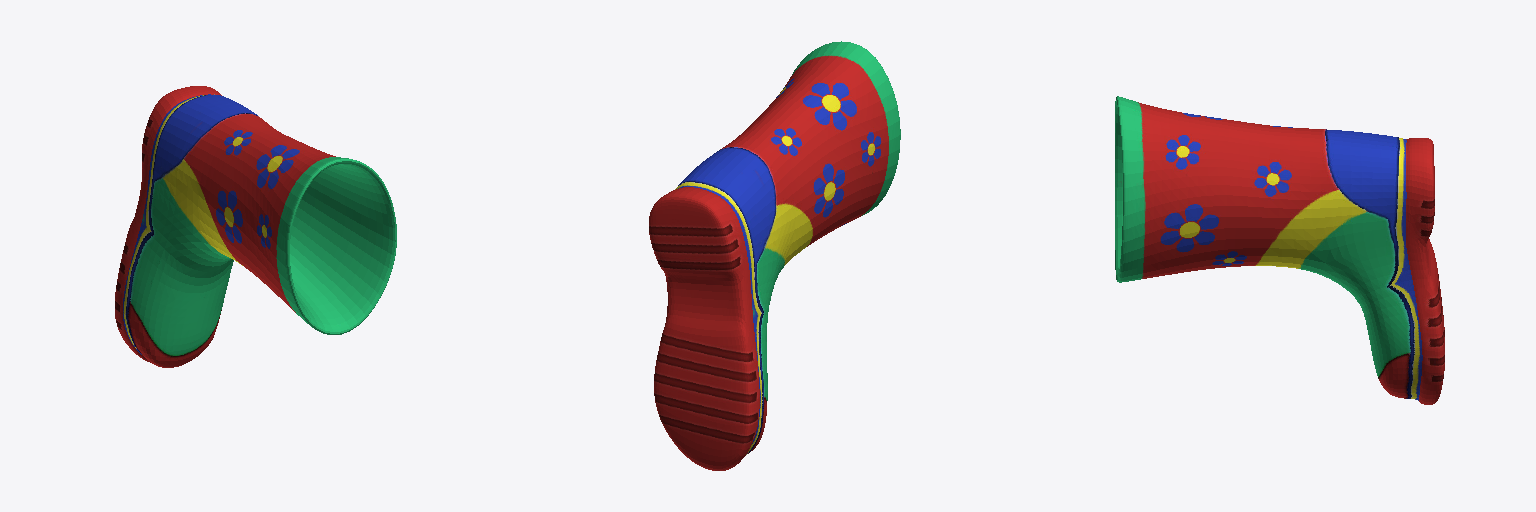
The picture shows the model from 3 angles: view 1: azimuth 30°, elevation 25°; view 2: azimuth 150°, elevation 25°; view 3: azimuth 270°, elevation 25°; orthographic projection.
Visible parts, largest first — view 1: 10148_RubberRainBoot_v02; view 2: 10148_RubberRainBoot_v02; view 3: 10148_RubberRainBoot_v02.
Boxes of the visible parts, box(x1,y1,x2,y2) form: 10148_RubberRainBoot_v02: box(115, 86, 396, 367); 10148_RubberRainBoot_v02: box(649, 41, 900, 470); 10148_RubberRainBoot_v02: box(1115, 96, 1444, 404).
Size of the model in its own units: 14.59 by 34.26 by 33.15.
Materials: 1 (1 with a texture image).